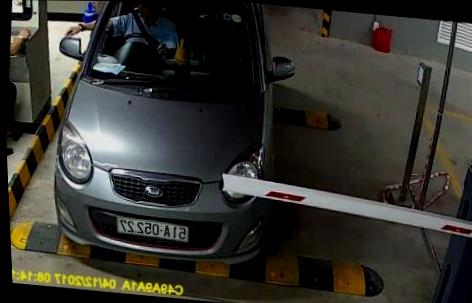License_Plate: (110, 218, 196, 244)
